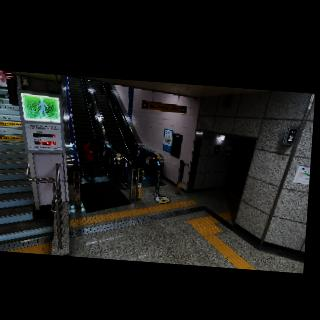normal: (81, 133, 104, 180)
